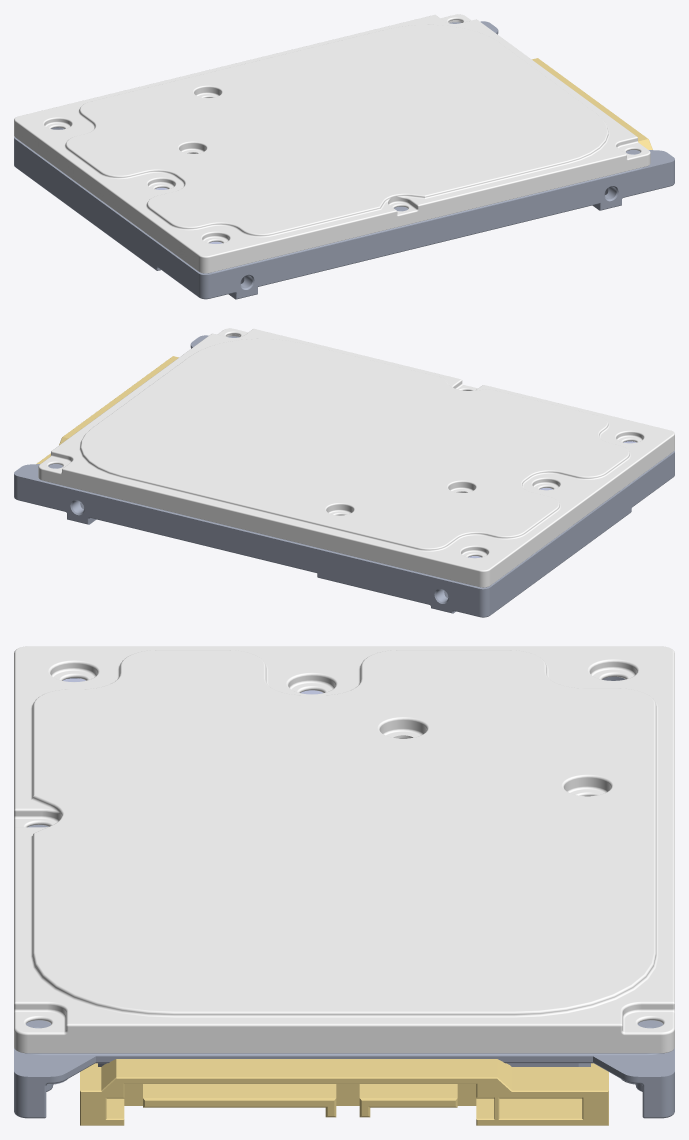
Rendered from 2.5 HDD.fbx.
3 renders of one model, top to bottom at view 1: azimuth 30°, elevation 25°; view 2: azimuth 150°, elevation 25°; view 3: azimuth 270°, elevation 25°, orthographic. The views are drawn at different scales.
Parts seen in each view (by area): view 1: Body1 (×3); view 2: Body1 (×3); view 3: Body1 (×3).
Boxes of the visible parts, <box> form: Body1 (×3): <box>14,14,674,299</box>; Body1 (×3): <box>14,328,674,617</box>; Body1 (×3): <box>14,646,674,1125</box>.
Size of the model in its own units: 100 by 10.6 by 70.
